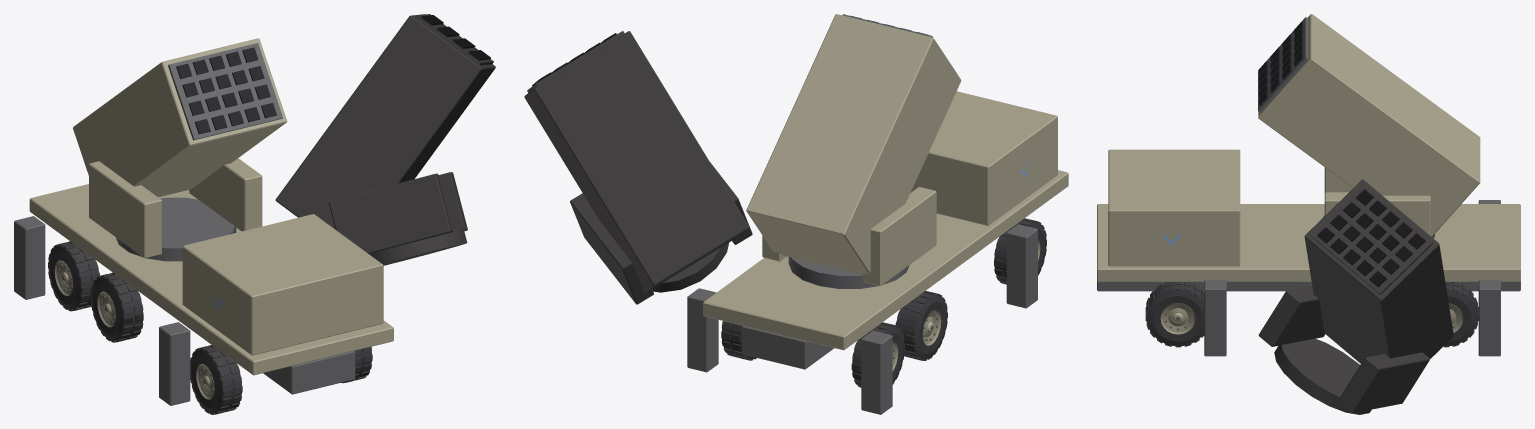
The model's file is aaVehicle__iron_dome_battery.glb.
3 views of the same model, side by side, from view 1: azimuth 30°, elevation 25°; view 2: azimuth 150°, elevation 25°; view 3: azimuth 270°, elevation 25° (orthographic). The views are drawn at different scales.
Parts seen in each view (by area): view 1: Hull_Mesh, Wreck, Gun_Mesh, Turret_Mesh, Wheel_L2_Mesh, Wheel_L1_Mesh, Wheel_L0_Mesh, Wheel_R2_Mesh; view 2: Hull_Mesh, Gun_Mesh, Wreck, Turret_Mesh, Wheel_L1_Mesh, Wheel_L0_Mesh, Wheel_L2_Mesh, Wheel_R0_Mesh; view 3: Hull_Mesh, Wreck, Gun_Mesh, Wheel_R2_Mesh, Turret_Mesh, Wheel_R0_Mesh.
Boxes of the visible parts, bbox=[...] form: Hull_Mesh: bbox=[14, 184, 393, 405]; Wreck: bbox=[87, 14, 495, 412]; Gun_Mesh: bbox=[73, 38, 287, 197]; Turret_Mesh: bbox=[89, 158, 262, 261]; Wheel_L2_Mesh: bbox=[190, 345, 242, 414]; Wheel_L1_Mesh: bbox=[90, 272, 143, 342]; Wheel_L0_Mesh: bbox=[48, 241, 99, 311]; Wheel_R2_Mesh: bbox=[341, 346, 372, 383]; Hull_Mesh: bbox=[687, 91, 1068, 414]; Gun_Mesh: bbox=[746, 14, 961, 274]; Wreck: bbox=[524, 31, 947, 322]; Turret_Mesh: bbox=[762, 187, 936, 288]; Wheel_L1_Mesh: bbox=[895, 291, 947, 360]; Wheel_L0_Mesh: bbox=[851, 322, 904, 387]; Wheel_L2_Mesh: bbox=[994, 218, 1046, 284]; Wheel_R0_Mesh: bbox=[721, 321, 756, 360]; Hull_Mesh: bbox=[1097, 149, 1520, 356]; Wreck: bbox=[1258, 179, 1453, 414]; Gun_Mesh: bbox=[1258, 14, 1480, 236]; Wheel_R2_Mesh: bbox=[1145, 282, 1204, 347]; Turret_Mesh: bbox=[1323, 167, 1434, 238]; Wheel_R0_Mesh: bbox=[1443, 282, 1478, 347].
Size of what is drawn, in the model's own units: 7.34 by 4.9 by 6.8.
